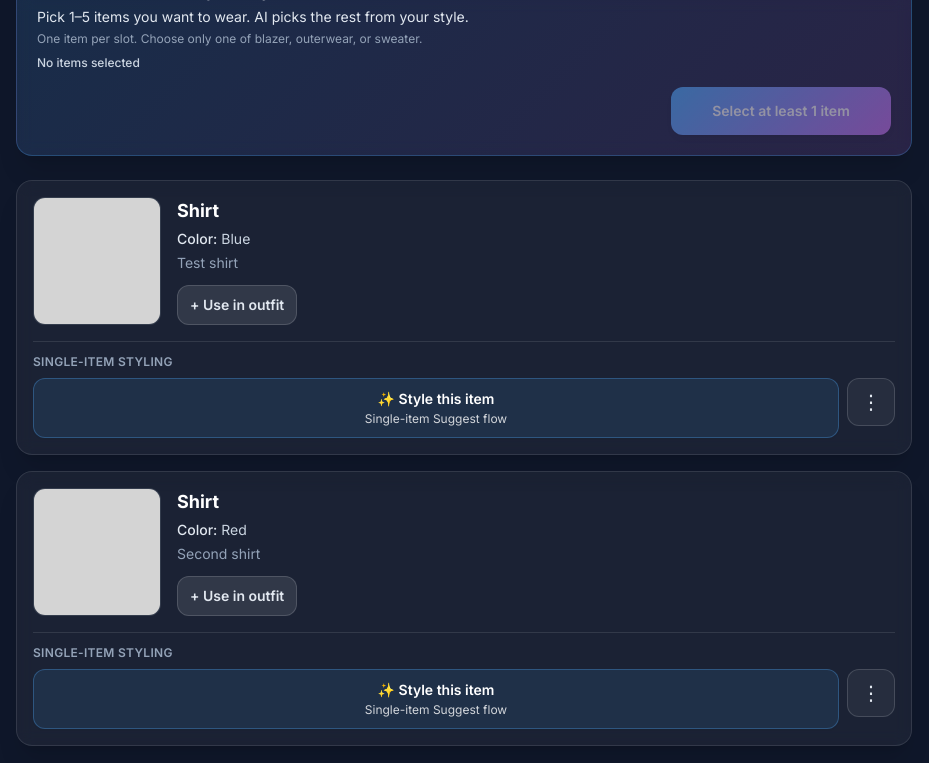
Test: Wardrobe page › elevates card z-index when overflow menu is open
This screenshot has width=929, height=763.
(page scrolled)
Click the 1st button "⋮": (871,402) 847,378 -> 895,426
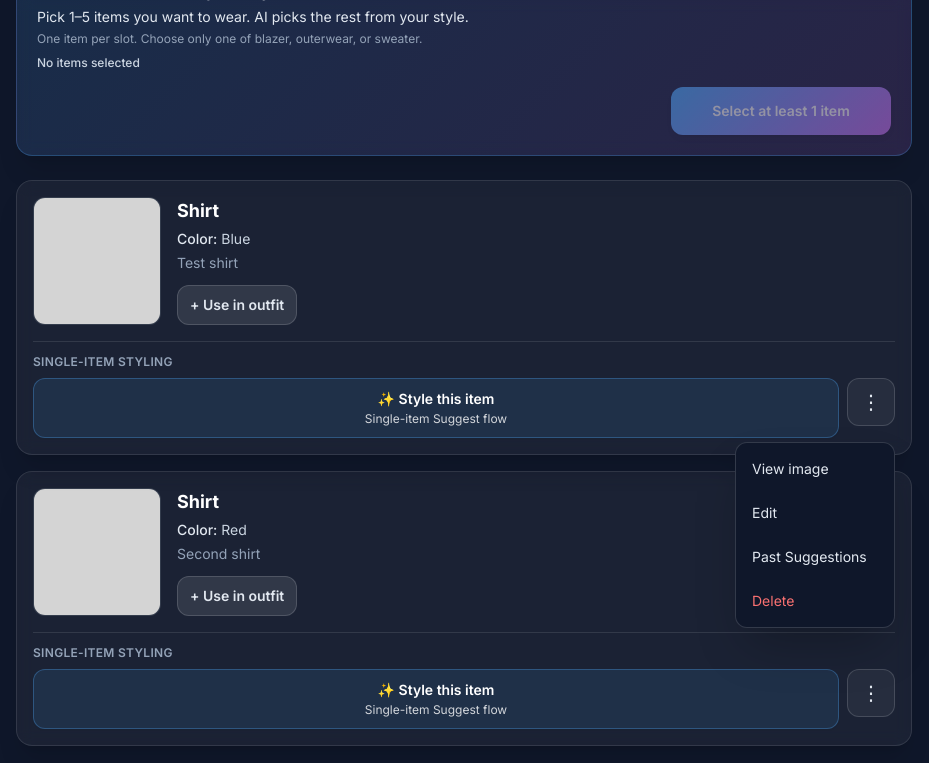
Expected: the number of menu items is 4, 736,447 -> 894,491; 736,491 -> 894,535; 736,535 -> 894,579; 736,579 -> 894,623
Expected: the menu items read "View image", "Edit", "Past Suggestions", "Delete", in this order, 736,447 -> 894,491; 736,491 -> 894,535; 736,535 -> 894,579; 736,579 -> 894,623
